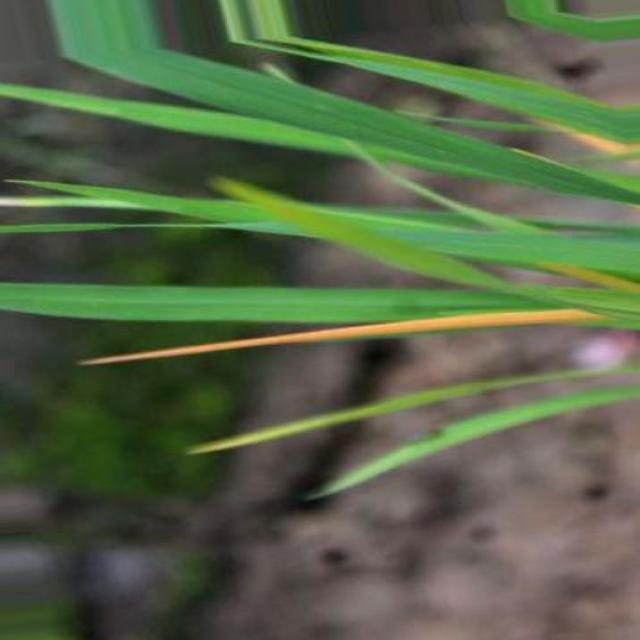Rice Tungro: (79, 309, 605, 365)
